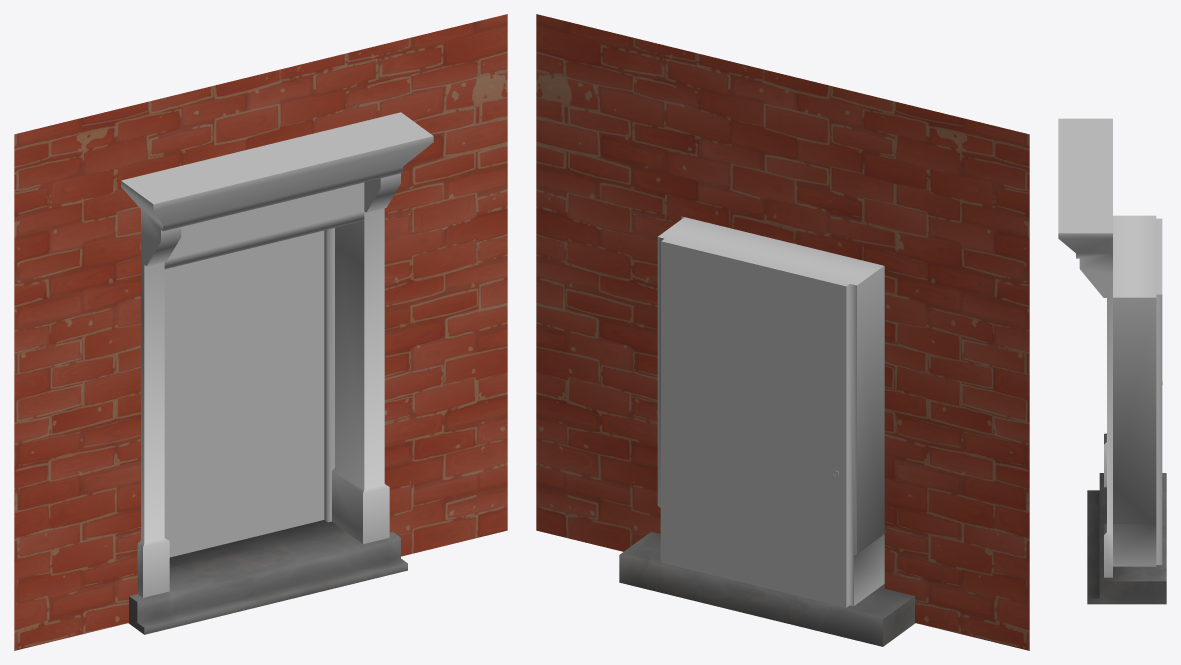
The model's file is Door_03.fbx.
The picture shows the model from 3 angles, left to right: view 1: azimuth 30°, elevation 25°; view 2: azimuth 150°, elevation 25°; view 3: azimuth 270°, elevation 25°; orthographic projection. The views are drawn at different scales.
Visible parts, largest first — view 1: Door_03; view 2: Door_03; view 3: Door_03.
Boxes of the visible parts, bbox=[...] form: Door_03: bbox=[14, 14, 507, 650]; Door_03: bbox=[536, 14, 1029, 650]; Door_03: bbox=[1058, 118, 1166, 604].
Bounding box in the file's own units: 4 × 4.01 × 0.9038.
